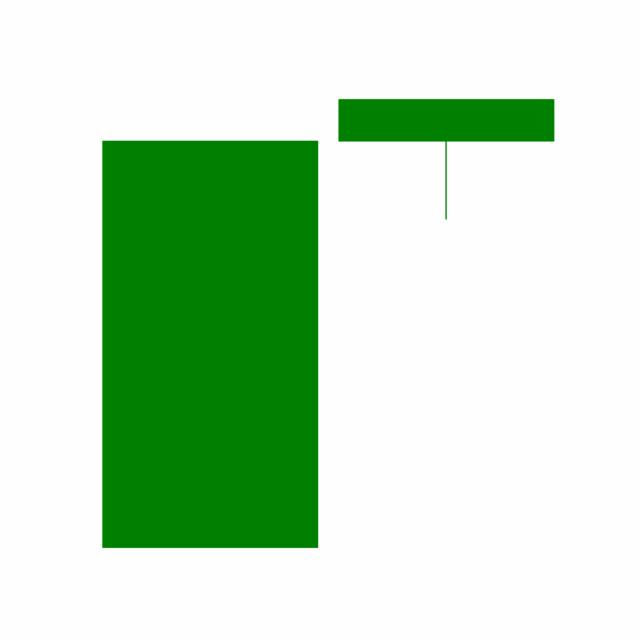Hanging Man: (327, 98, 565, 222)
